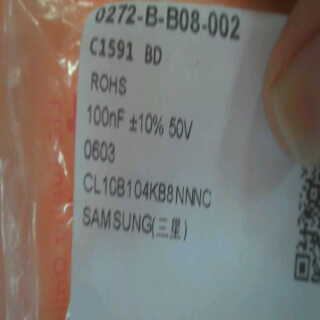100nF: (78, 103, 130, 131)
